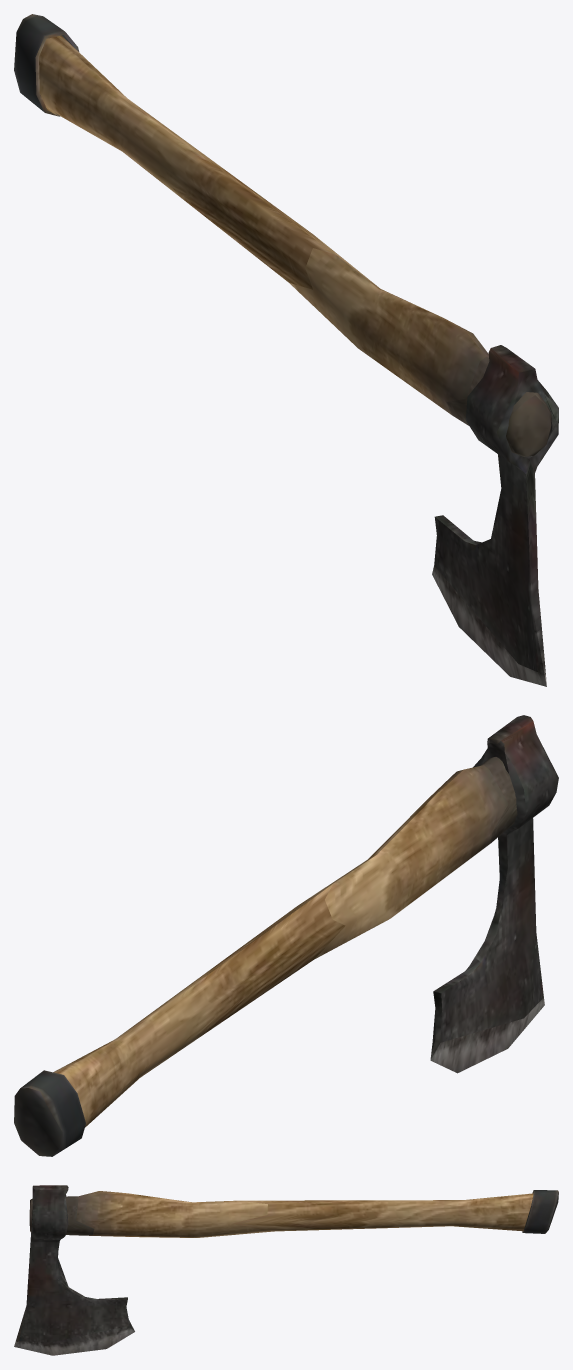
File: axe.glb
3 renders of one model, top to bottom at view 1: azimuth 30°, elevation 25°; view 2: azimuth 150°, elevation 25°; view 3: azimuth 270°, elevation 25°, orthographic. The views are drawn at different scales.
Parts seen in each view (by area): view 1: axe; view 2: axe; view 3: axe.
Boxes of the visible parts, bbox=[...] form: axe: bbox=[14, 14, 558, 686]; axe: bbox=[14, 715, 558, 1156]; axe: bbox=[14, 1185, 558, 1355].
Bounding box in the file's own units: 0.0473 × 0.2158 × 0.6299.
1 material, 1 textured.
